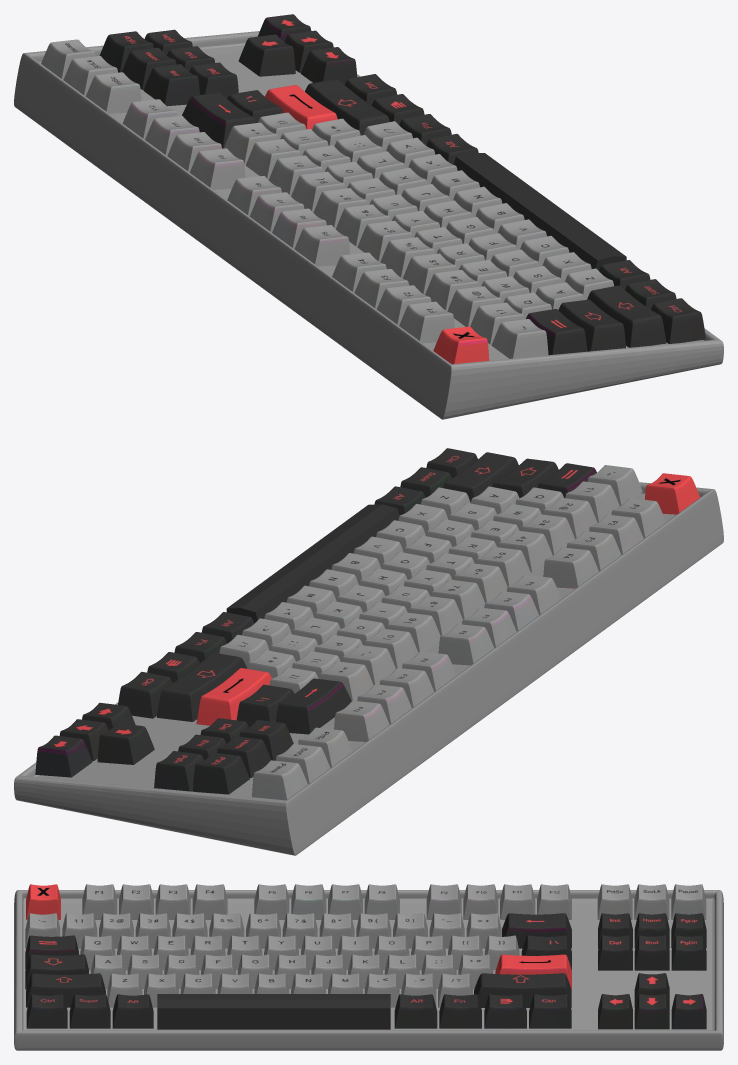
Rendered from tkl_keyboard_8008-transformed.glb.
3 renders of one model, top to bottom at view 1: azimuth 30°, elevation 25°; view 2: azimuth 150°, elevation 25°; view 3: azimuth 270°, elevation 25°, orthographic. The views are drawn at different scales.
Parts seen in each view (by area): view 1: Keyboard Body; view 2: Keyboard Body; view 3: Keyboard Body.
Part boxes in pixels (bbox=[...]): Keyboard Body: bbox=[14, 14, 723, 419]; Keyboard Body: bbox=[14, 448, 723, 855]; Keyboard Body: bbox=[14, 884, 723, 1050].
Size of the model in its own units: 5.55 by 1.5 by 14.78.
2 materials, 1 textured.
